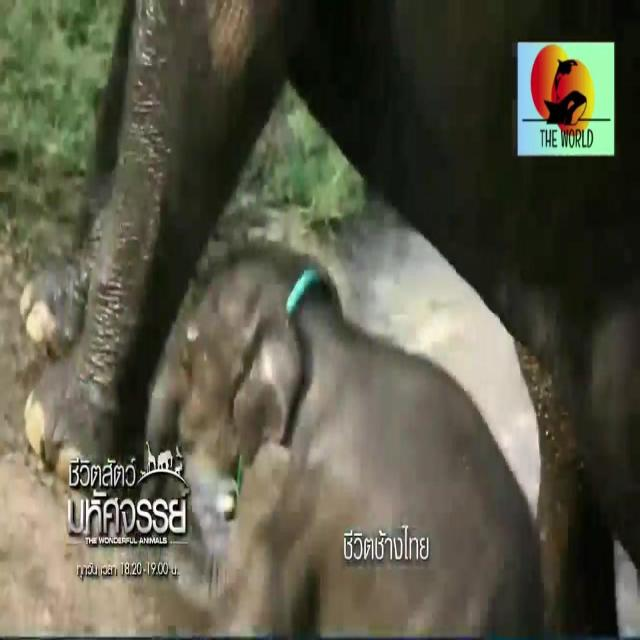Elephant: (188, 297, 370, 509), (30, 193, 156, 435)
